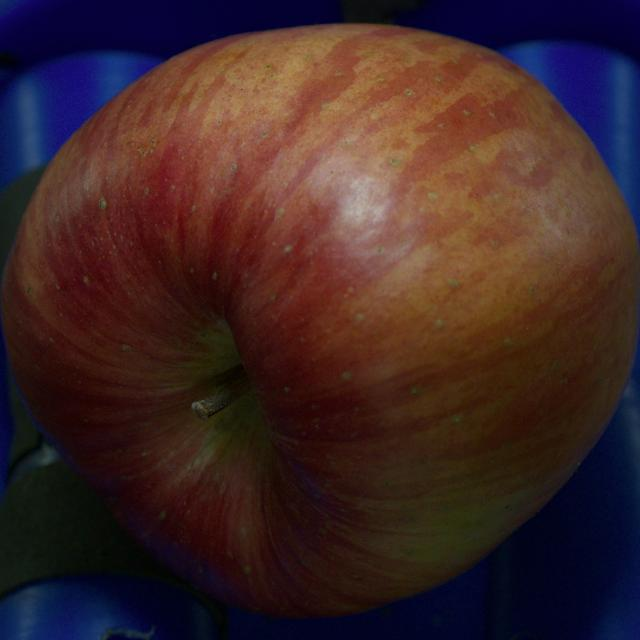apple: (0, 25, 639, 616)
